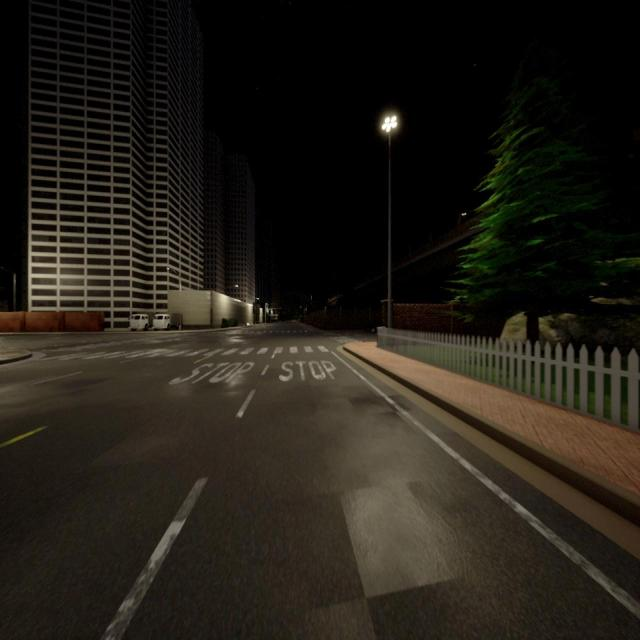Vehicle: (152, 312, 183, 331), (129, 313, 154, 332)
